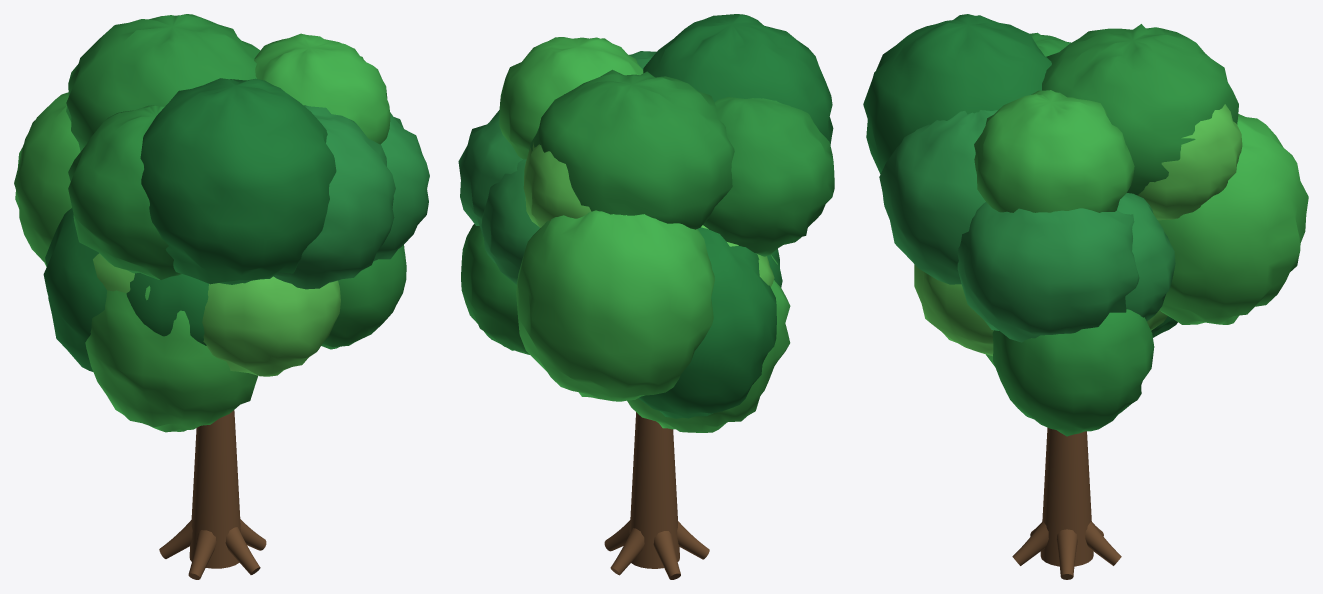
The model's file is tree-a.glb.
3 views of the same model, side by side, from view 1: azimuth 30°, elevation 25°; view 2: azimuth 150°, elevation 25°; view 3: azimuth 270°, elevation 25° (orthographic). The views are drawn at different scales.
Visible parts, largest first — view 1: crown blob.007, crown blob.011, crown blob, crown blob.010, crown blob.003, crown blob.009, crown blob.001, crown blob.006, crown blob.012, tree trunk, crown blob.005, crown blob.004 (+5 smaller); view 2: crown blob.006, crown blob, crown blob.010, crown blob.007, crown blob.012, crown blob.001, tree trunk, crown blob.005, crown blob.014, crown blob.004, crown blob.011, crown blob.013 (+3 smaller); view 3: crown blob.004, crown blob.006, crown blob, crown blob.007, crown blob.001, crown blob.005, crown blob.009, crown blob.013, tree trunk, crown blob.014, crown blob.003, tree root flare (+2 smaller).
Boxes of the visible parts, bbox=[...] form: crown blob.007: bbox=[140, 78, 336, 284]; crown blob.011: bbox=[85, 285, 257, 432]; crown blob: bbox=[66, 14, 260, 151]; crown blob.010: bbox=[68, 105, 181, 279]; crown blob.003: bbox=[202, 276, 340, 376]; crown blob.009: bbox=[273, 105, 395, 289]; crown blob.001: bbox=[254, 33, 390, 144]; crown blob.006: bbox=[14, 92, 80, 266]; crown blob.012: bbox=[43, 208, 106, 371]; tree trunk: bbox=[189, 410, 240, 568]; crown blob.005: bbox=[321, 245, 406, 349]; crown blob.004: bbox=[373, 112, 429, 261]; crown blob.006: bbox=[516, 210, 714, 401]; crown blob: bbox=[529, 69, 734, 229]; crown blob.010: bbox=[703, 97, 834, 256]; crown blob.007: bbox=[643, 14, 833, 145]; crown blob.012: bbox=[638, 227, 776, 418]; crown blob.001: bbox=[499, 37, 643, 159]; tree trunk: bbox=[629, 412, 679, 568]; crown blob.005: bbox=[461, 224, 529, 354]; crown blob.014: bbox=[481, 159, 539, 284]; crown blob.004: bbox=[458, 110, 522, 236]; crown blob.011: bbox=[627, 255, 790, 432]; crown blob.013: bbox=[523, 142, 591, 227]; crown blob.004: bbox=[957, 202, 1139, 342]; crown blob.006: bbox=[1157, 114, 1308, 324]; crown blob: bbox=[1042, 24, 1238, 195]; crown blob.007: bbox=[863, 14, 1051, 174]; crown blob.001: bbox=[974, 90, 1134, 212]; crown blob.005: bbox=[992, 309, 1154, 436]; crown blob.009: bbox=[879, 110, 997, 284]; crown blob.013: bbox=[1137, 104, 1242, 220]; tree trunk: bbox=[1040, 427, 1093, 566]; crown blob.014: bbox=[1117, 193, 1175, 321]; crown blob.003: bbox=[914, 264, 993, 356]; tree root flare: bbox=[1056, 529, 1077, 579].
Bounding box in the file's own units: 5.33 × 7.57 × 5.86.
